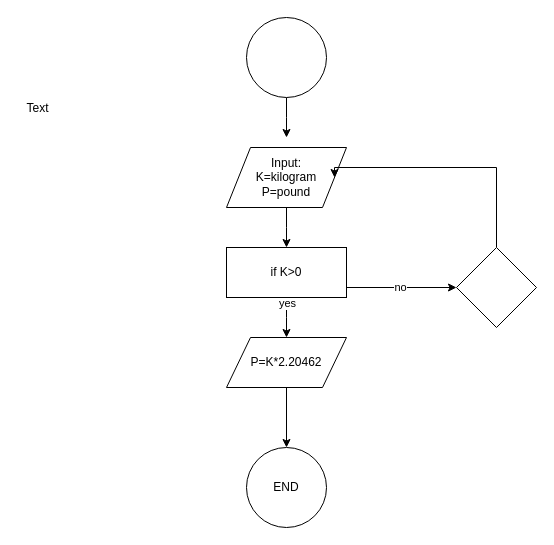
The diagram is 554 pixels wide and 545 high, and some of its shapes have lost their labels. Each missing label, with the centre of its shape:
Error: the point at 496,287
stat: the point at 286,57
